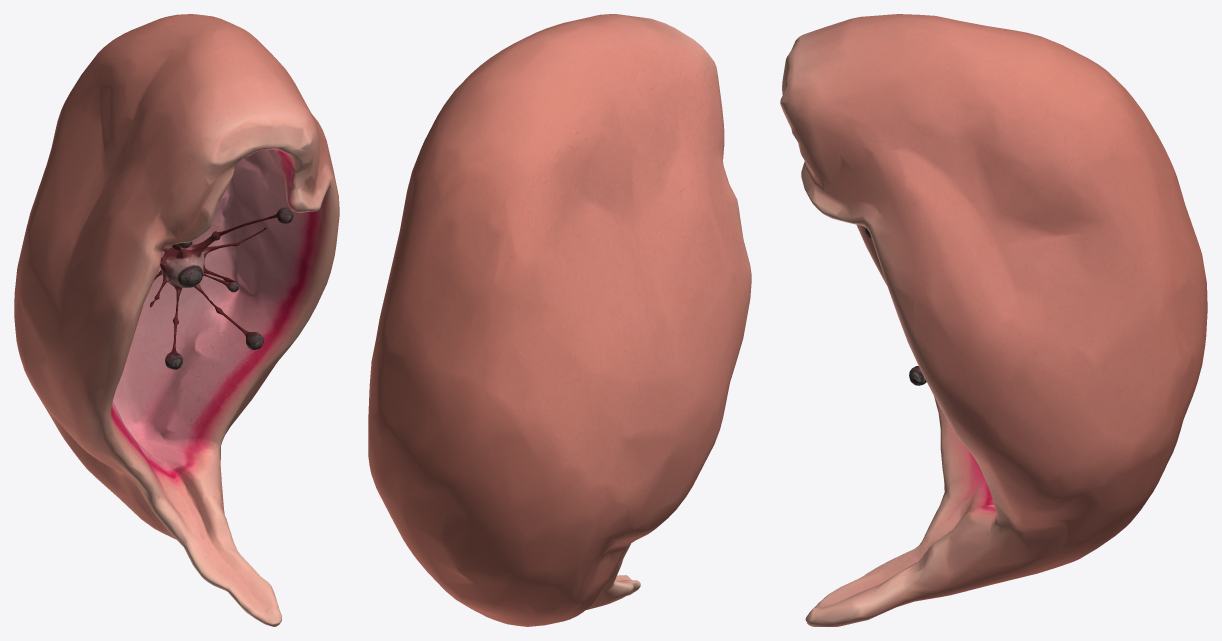
The model's file is Prop_Villus.glb.
The picture shows the model from 3 angles, left to right: view 1: azimuth 30°, elevation 25°; view 2: azimuth 150°, elevation 25°; view 3: azimuth 270°, elevation 25°; orthographic projection. The views are drawn at different scales.
Size of the model in its own units: 0.9493 by 1.9 by 1.22.
Materials: 1 (1 with a texture image).
